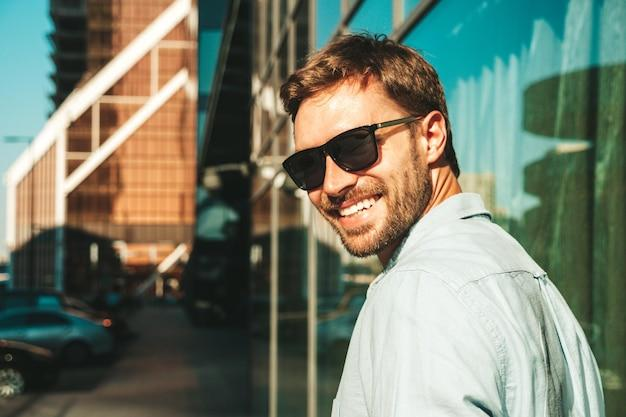sunglasses: (276, 113, 388, 193)
